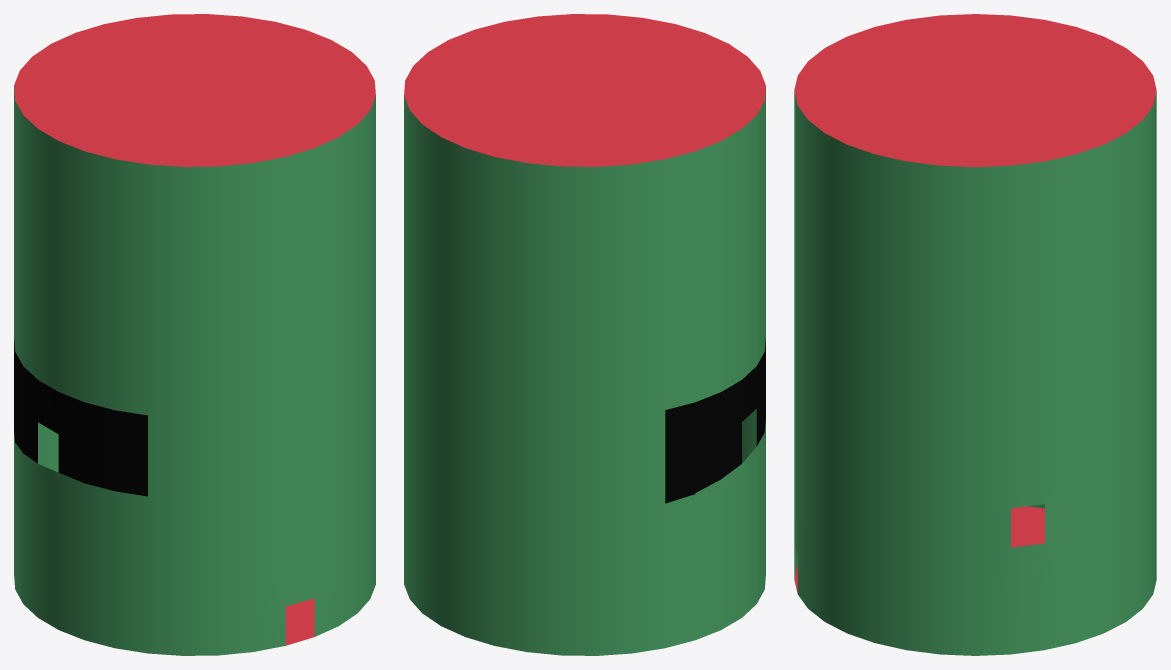
File: Museum_Shell.fbx
3 renders of one model, left to right at view 1: azimuth 30°, elevation 25°; view 2: azimuth 150°, elevation 25°; view 3: azimuth 270°, elevation 25°, orthographic.
Parts seen in each view (by area): view 1: Museum_Shell; view 2: Museum_Shell; view 3: Museum_Shell.
Boxes of the visible parts, x1,y1,x2,y2 form: Museum_Shell: [14, 14, 375, 655]; Museum_Shell: [404, 14, 765, 655]; Museum_Shell: [794, 14, 1156, 655].
Bounding box in the file's own units: 4000 × 5950 × 4000.
